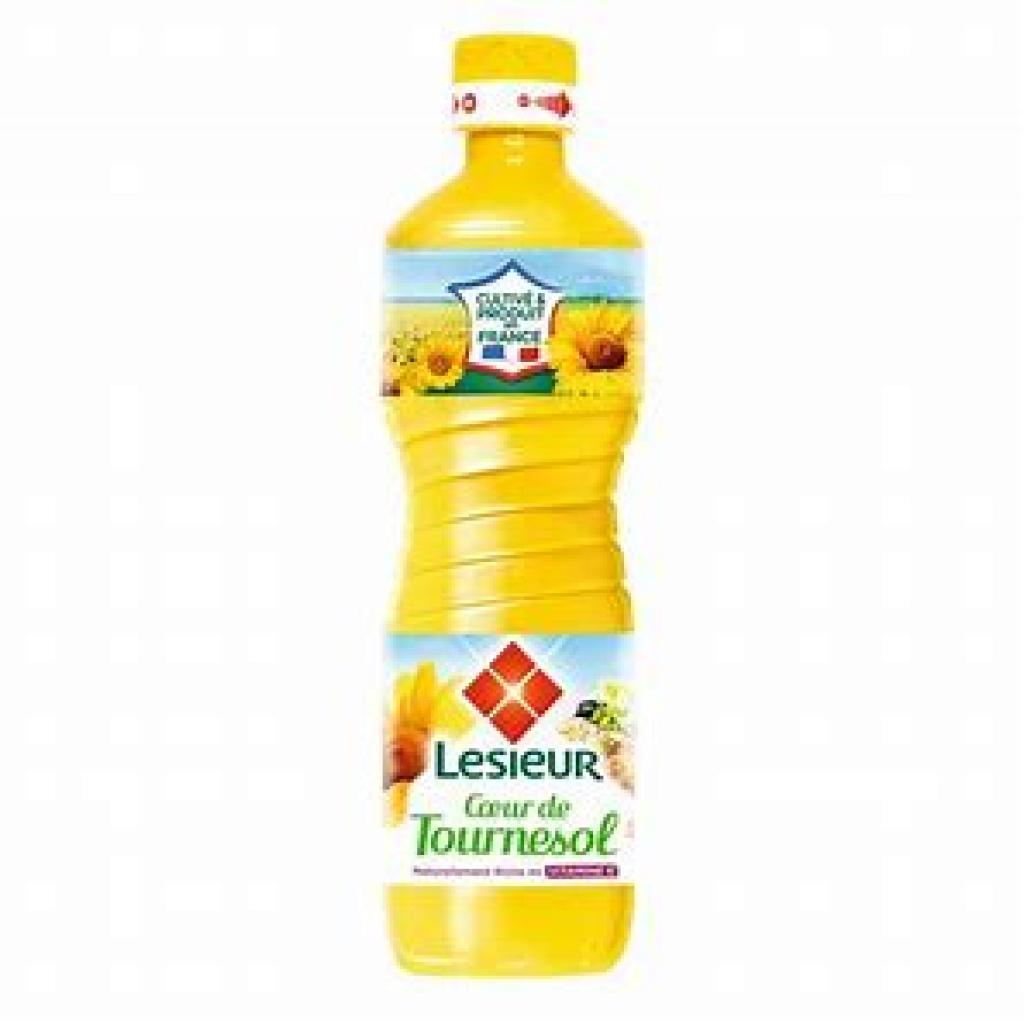plastic: (367, 5, 678, 996)
